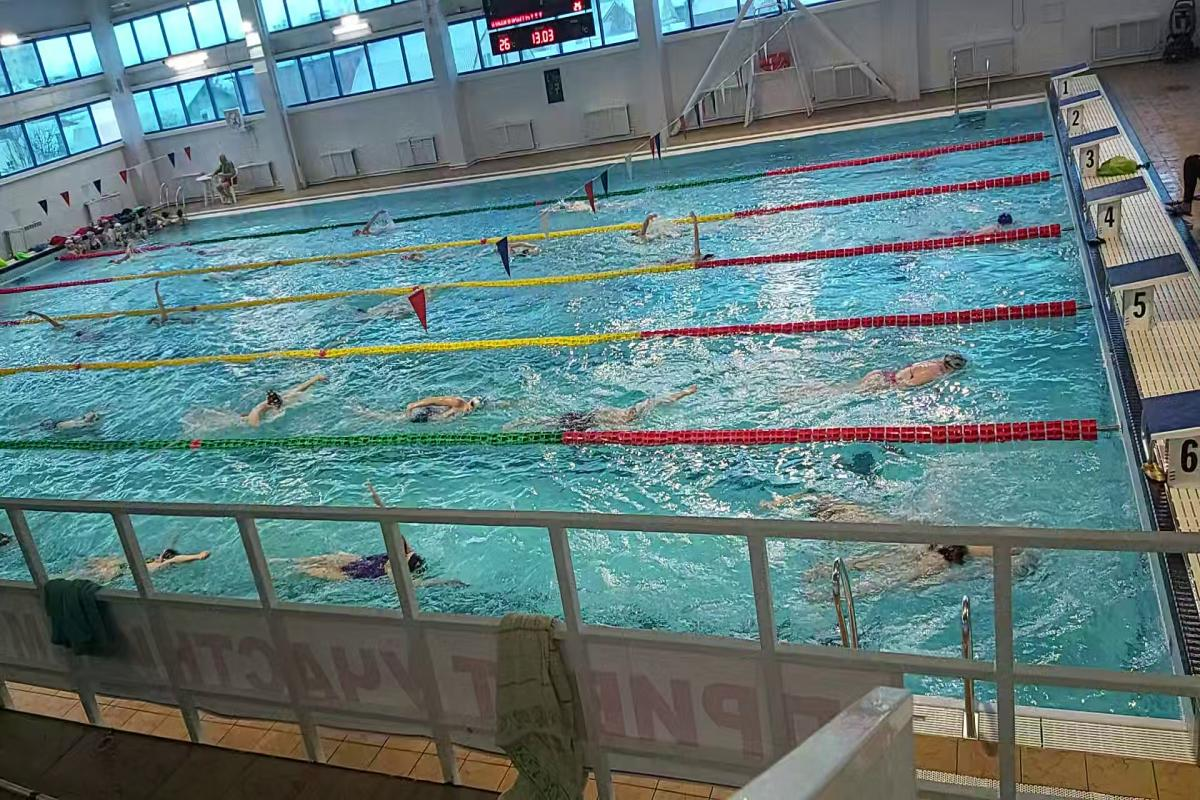swimmer: (818, 347, 970, 402), (234, 360, 335, 441), (749, 476, 898, 526), (851, 543, 986, 598), (524, 388, 694, 430), (370, 378, 496, 432), (280, 538, 394, 594), (142, 537, 234, 576), (146, 282, 206, 336), (41, 396, 120, 436), (672, 209, 721, 262), (939, 212, 1019, 233), (348, 212, 396, 238), (628, 212, 662, 241), (387, 246, 436, 264)
